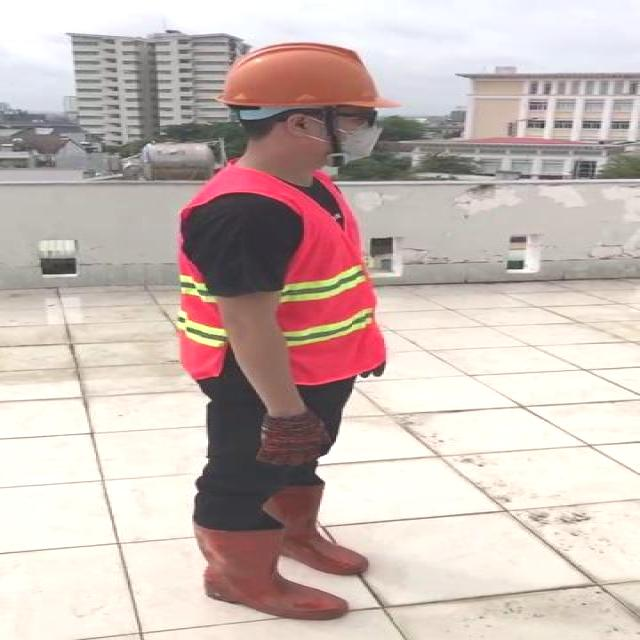boots: (190, 524, 348, 620), (274, 484, 368, 573)
face_mask: (316, 103, 384, 164)
hand_glove: (252, 413, 334, 466), (364, 366, 390, 381)
head_helmet: (218, 40, 401, 110)
person: (160, 39, 416, 640)
vest: (183, 160, 384, 383)
